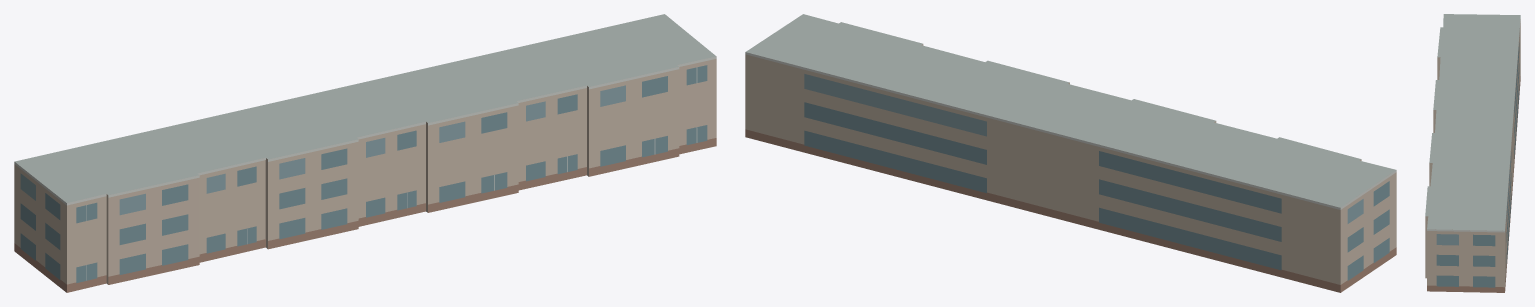
The model's file is survey-upis-32623161.glb.
3 renders of one model, left to right at view 1: azimuth 30°, elevation 25°; view 2: azimuth 150°, elevation 25°; view 3: azimuth 270°, elevation 25°, orthographic. The views are drawn at different scales.
Visible parts, largest first — view 1: survey-upis-32623161.tmp; view 2: survey-upis-32623161.tmp; view 3: survey-upis-32623161.tmp.
Part boxes in pixels (box(x1,y1,x2,y2)): survey-upis-32623161.tmp: box(14, 14, 716, 292); survey-upis-32623161.tmp: box(745, 14, 1396, 292); survey-upis-32623161.tmp: box(1425, 14, 1520, 292).
Size of the model in its own units: 68.52 by 9.15 by 12.77.
